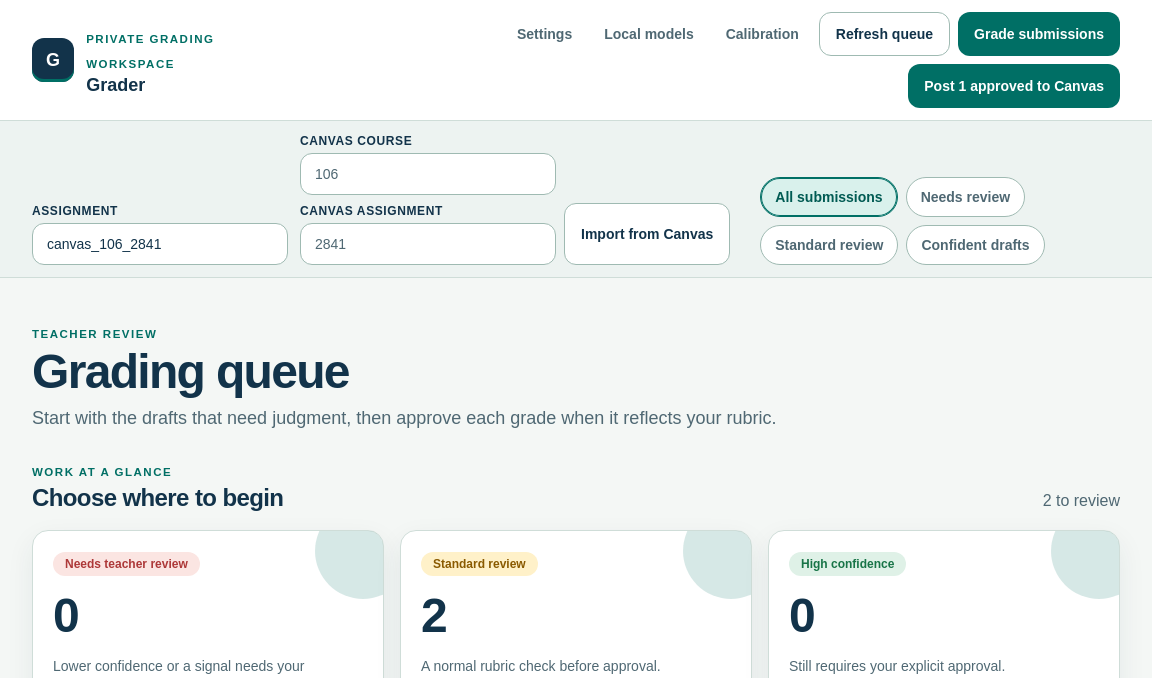
Scenario: posting approved grades to Canvas › surfaces what the engine refused to post
Click the button "Post 1 approved to Canvas".
click(1014, 86)  # box [908,64,1120,108]
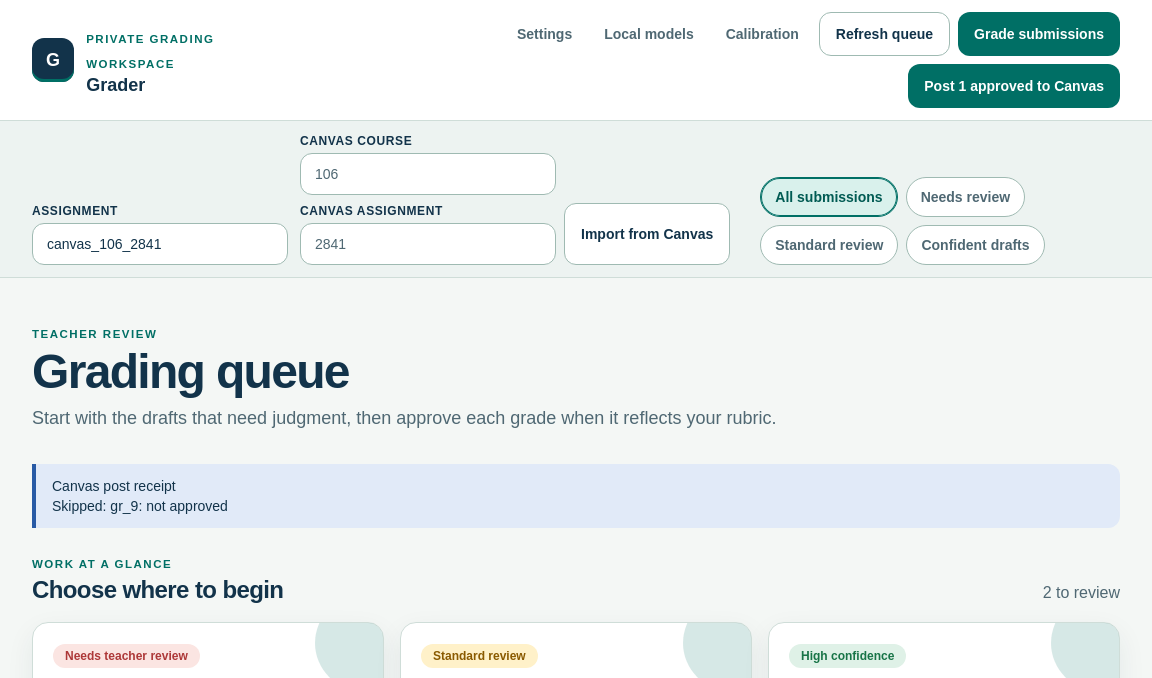
Result: the list item "Skipped: gr_9: not approved" is shown at [52,496,228,516]
